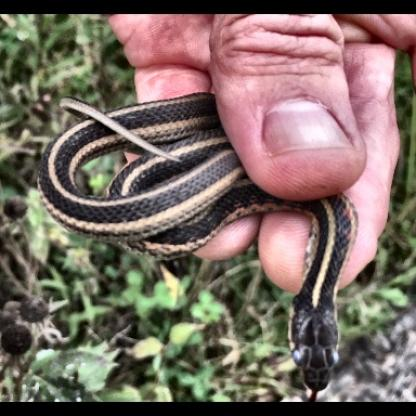Snake: (32, 88, 359, 386)
